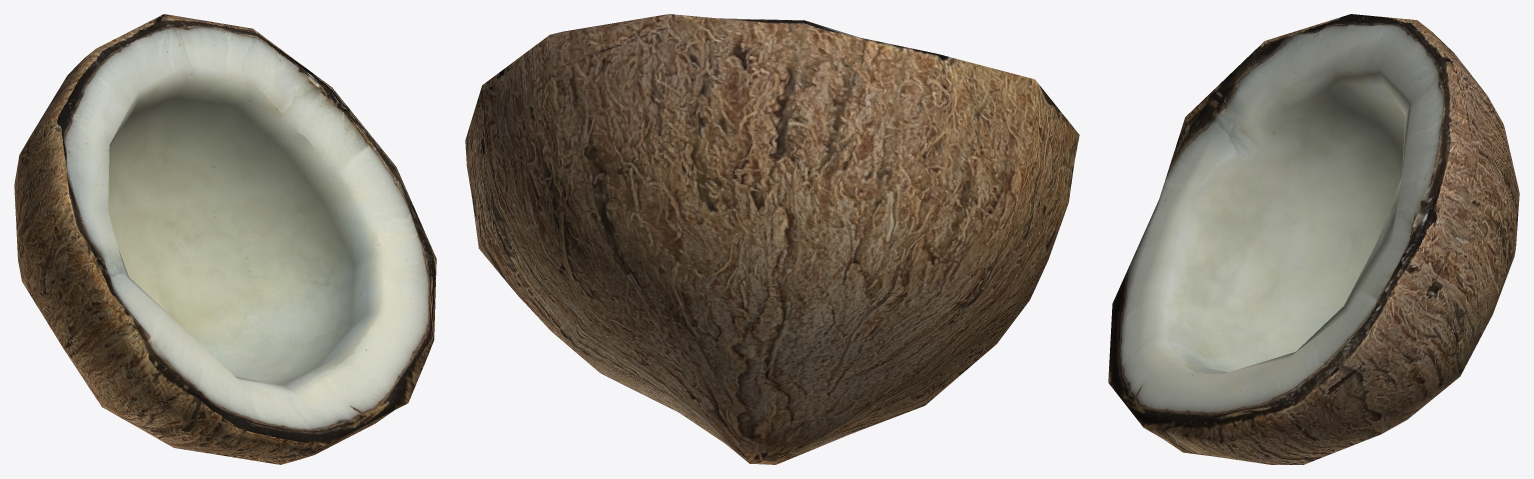
Rendered from A111_Coconut_low.fbx.
3 views of the same model, side by side, from view 1: azimuth 30°, elevation 25°; view 2: azimuth 150°, elevation 25°; view 3: azimuth 270°, elevation 25° (orthographic). The views are drawn at different scales.
Visible parts, largest first — view 1: A111_Coconut_low; view 2: A111_Coconut_low; view 3: A111_Coconut_low.
Part boxes in pixels (bbox=[...]): A111_Coconut_low: bbox=[14, 14, 436, 464]; A111_Coconut_low: bbox=[465, 14, 1079, 464]; A111_Coconut_low: bbox=[1108, 14, 1519, 464].
Size of the model in its own units: 13.38 by 11.45 by 11.53.
1 material, 1 textured.
